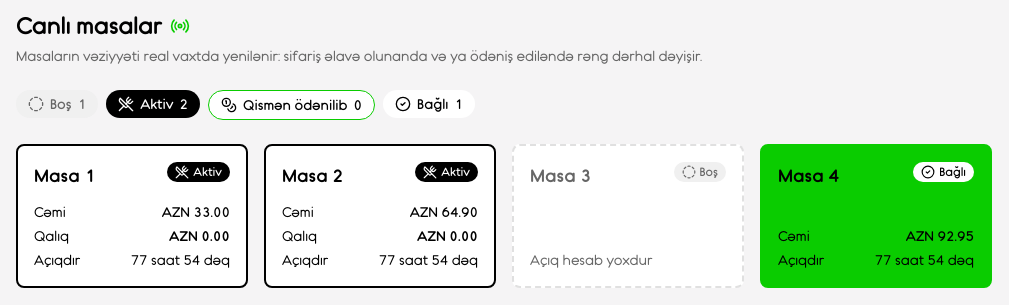
Test: LiveTablesPage status filter › says so when no table has the pressed status, and resets with Hamısını göstər
Expected: the heading "Masa 1" is shown, x1=34 y1=162 x2=95 y2=190
Click the button "Qismən ödənilib 0" at (292, 105), box x1=208 y1=90 x2=375 y2=120
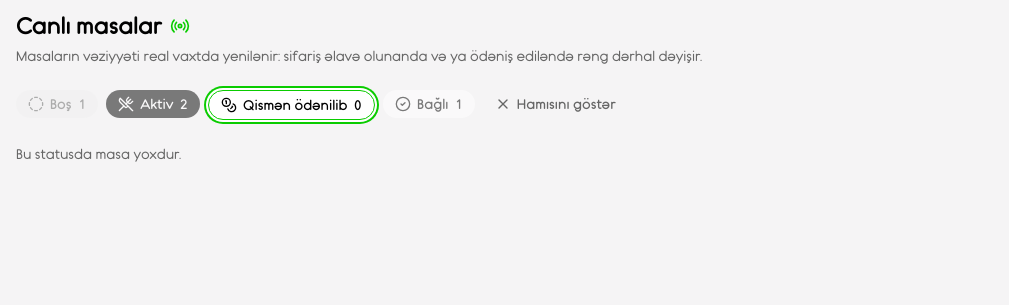
Result: the text "Bu statusda masa yoxdur." is shown at x1=16 y1=146 x2=181 y2=162
Result: the heading "Masa 1" is gone
Click the button "Hamısını göstər" at (555, 104), box x1=483 y1=90 x2=628 y2=118
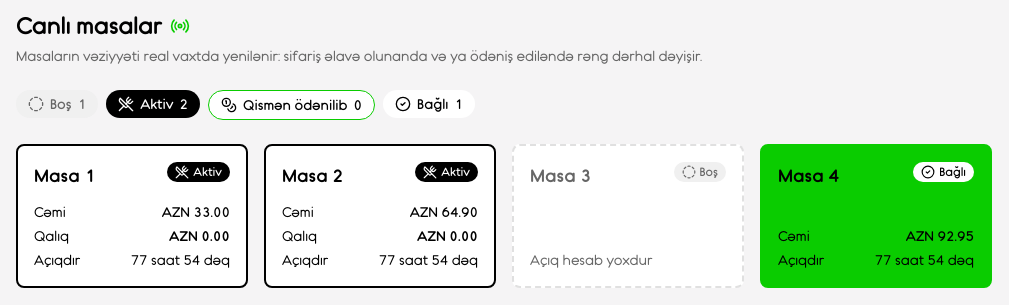
Result: the heading "Masa 1" is shown at x1=34 y1=162 x2=95 y2=190
Result: the heading "Masa 3" is shown at x1=530 y1=162 x2=591 y2=190
